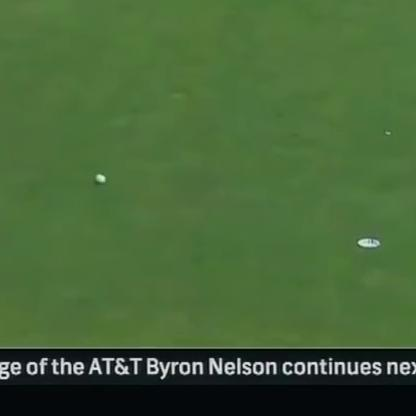golfball: (93, 171, 106, 184)
